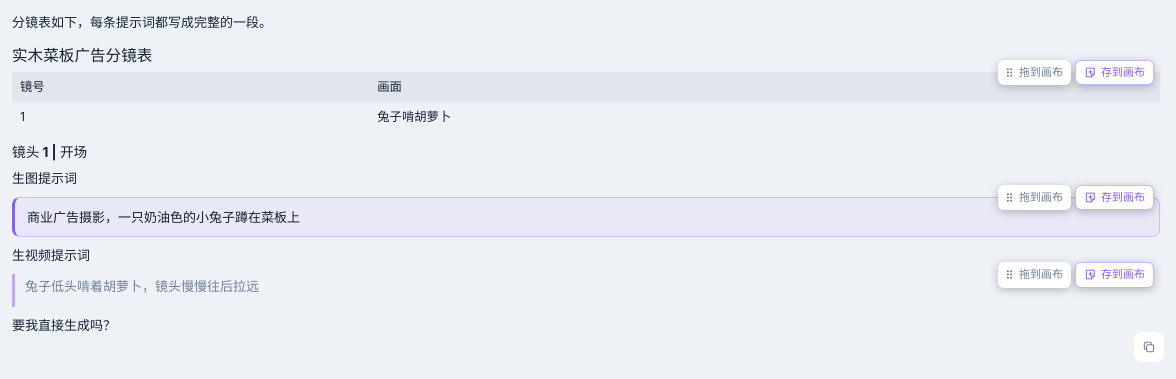
Test: agent messages › only special blocks can be saved, each named after its section
Click the button "存到画布" in the row of "画面".
click(1114, 73)  # box [1075,60,1154,85]
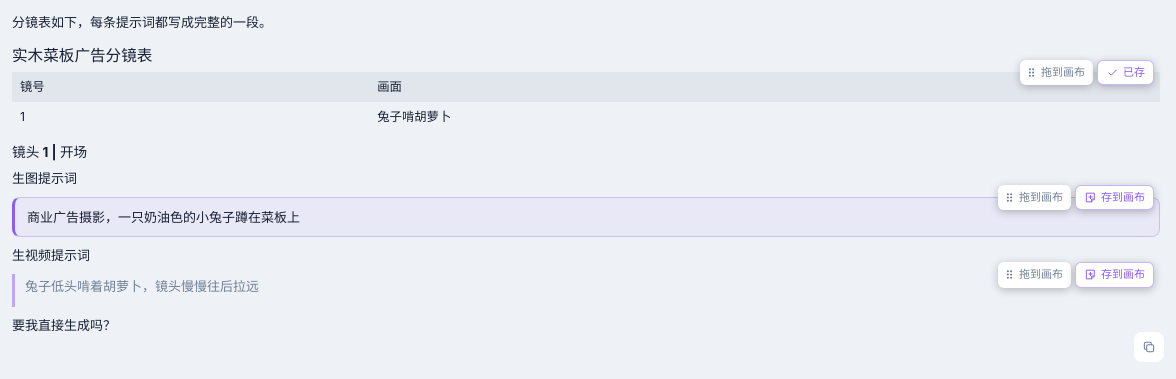
Click the 1st button "存到画布".
click(1114, 197)  # box [1075,185,1154,210]
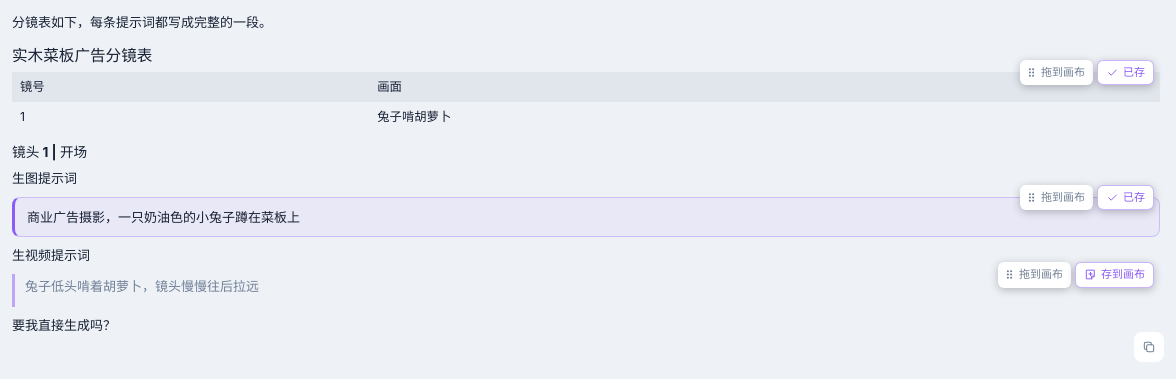
Click the button "存到画布".
click(1114, 275)  # box [1075,262,1154,288]
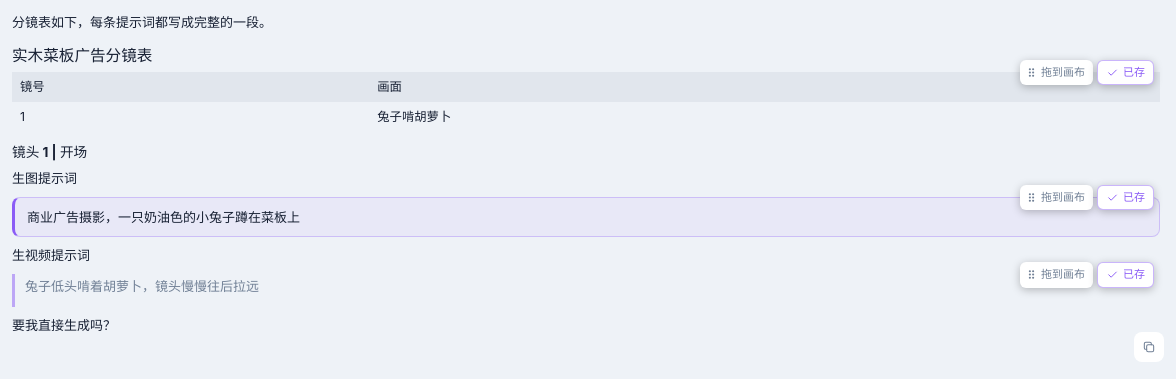
Check: the button "存到画布" is gone
